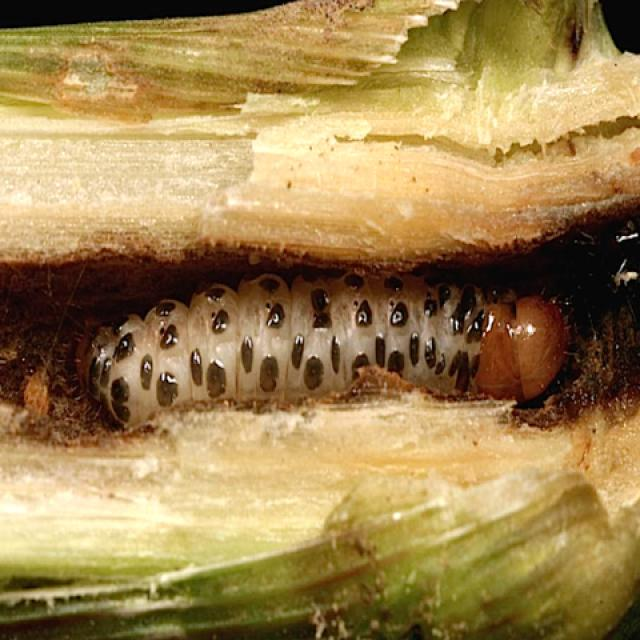cornborer-Larva-: (64, 250, 586, 442)
